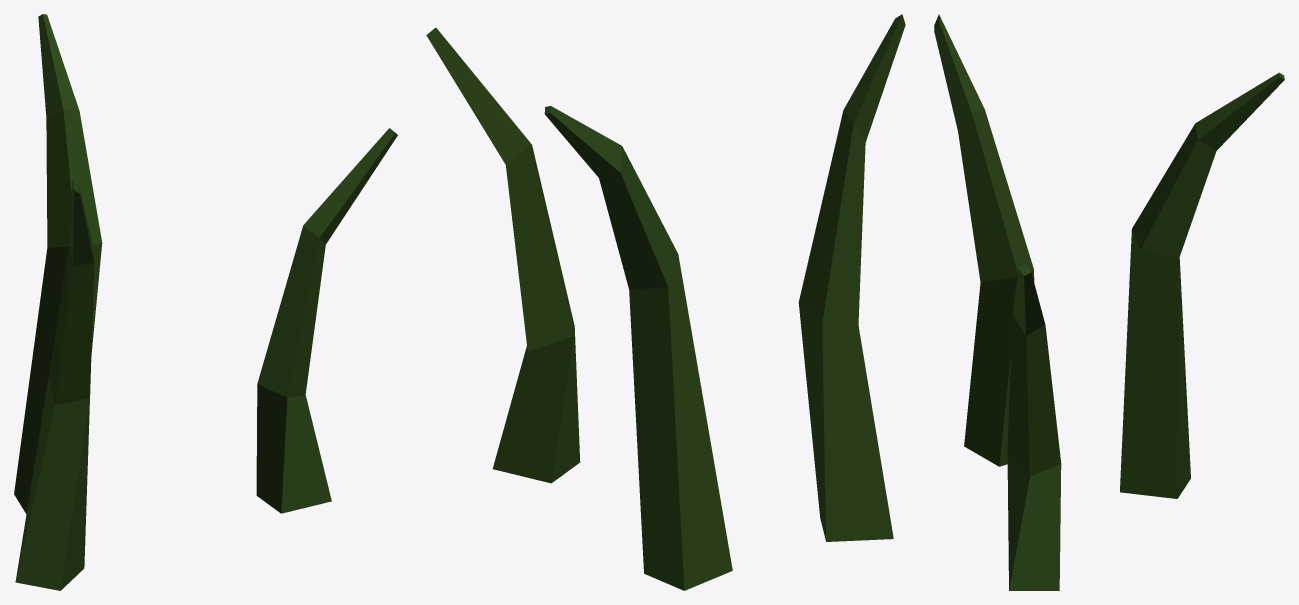
The model's file is GrassAutumn1_Alt2.fbx.
3 views of the same model, side by side, from view 1: azimuth 30°, elevation 25°; view 2: azimuth 150°, elevation 25°; view 3: azimuth 270°, elevation 25° (orthographic). The views are drawn at different scales.
Parts seen in each view (by area): view 1: GrassAutumn1_Alt2; view 2: GrassAutumn1_Alt2; view 3: GrassAutumn1_Alt2.
Boxes of the visible parts, left/top/right/bottom form: GrassAutumn1_Alt2: left=14, top=14, right=397, bottom=590; GrassAutumn1_Alt2: left=426, top=14, right=905, bottom=590; GrassAutumn1_Alt2: left=934, top=14, right=1284, bottom=590.
Bounding box in the file's own units: 0.3561 × 0.3746 × 0.2695.
